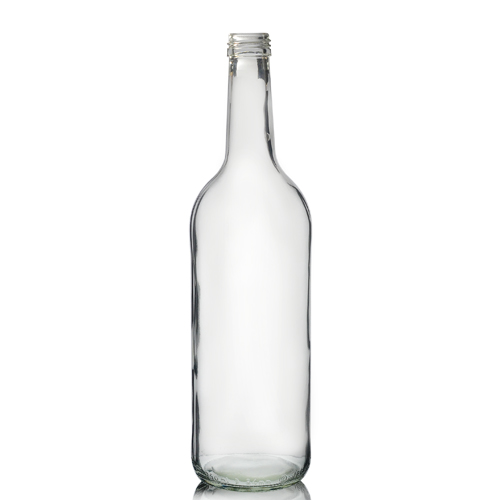glass_bottle: (167, 25, 342, 497)
